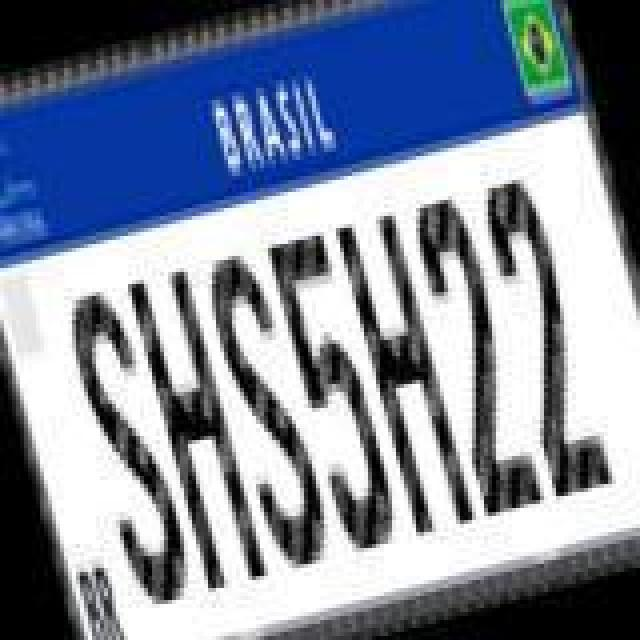2: (398, 188, 546, 524), (470, 168, 618, 504)
5: (264, 228, 408, 556)
H: (122, 264, 270, 600), (336, 210, 480, 542)
S: (54, 280, 202, 616), (190, 240, 338, 576)
